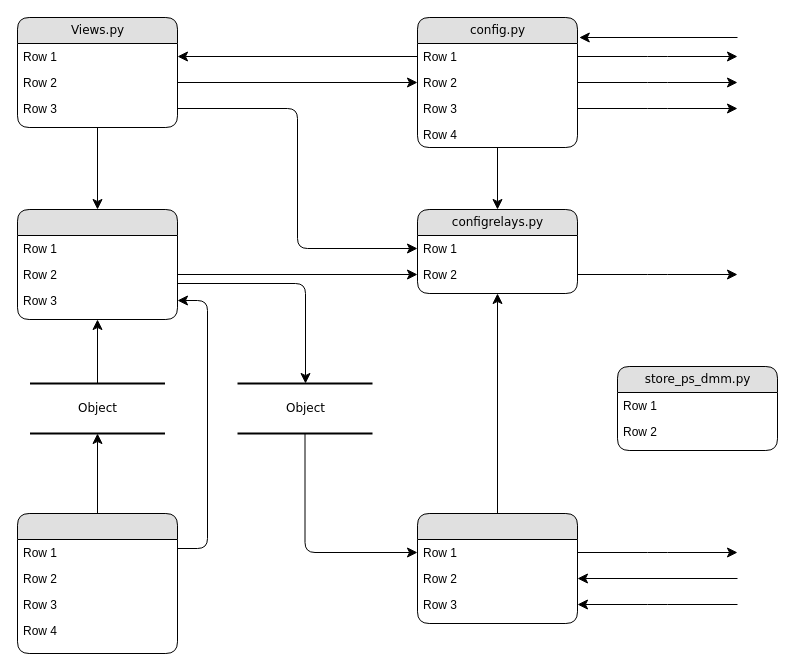
Image size: 795x671. Some labels were removed from this diagram. Here are the shapes that lost their labels. From the top down, the box of each, then its label:
(16, 208, 178, 320): ohm.html
(16, 512, 178, 654): user
(416, 512, 578, 624): RaspberryPI
